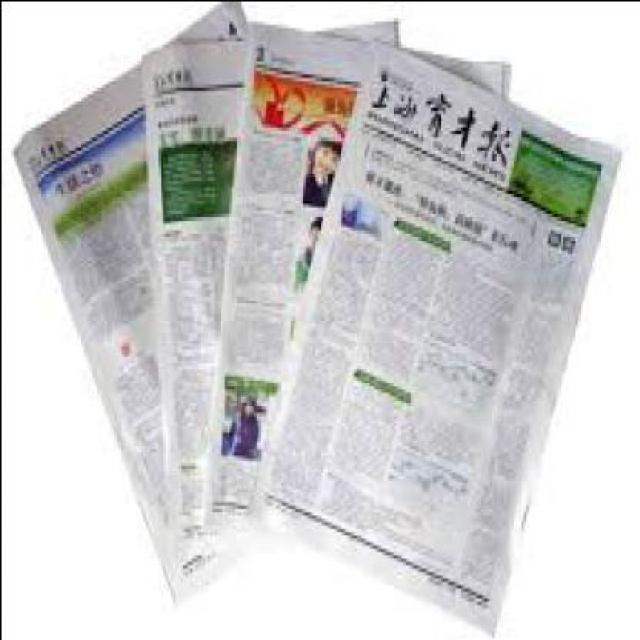paper: (243, 34, 617, 634), (8, 1, 354, 608), (202, 26, 506, 568), (137, 14, 395, 558)
